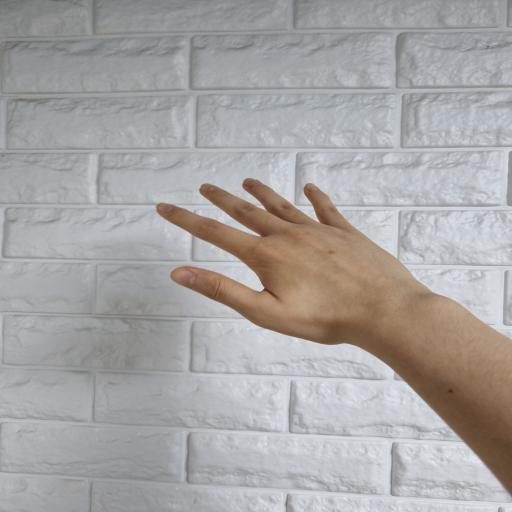Paper: (156, 178, 416, 346)
